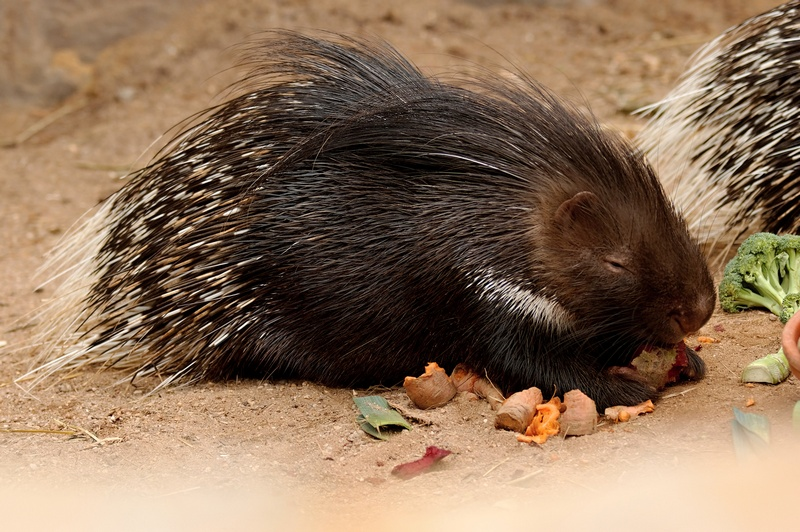porcupine: (29, 31, 709, 436), (620, 3, 800, 284)
